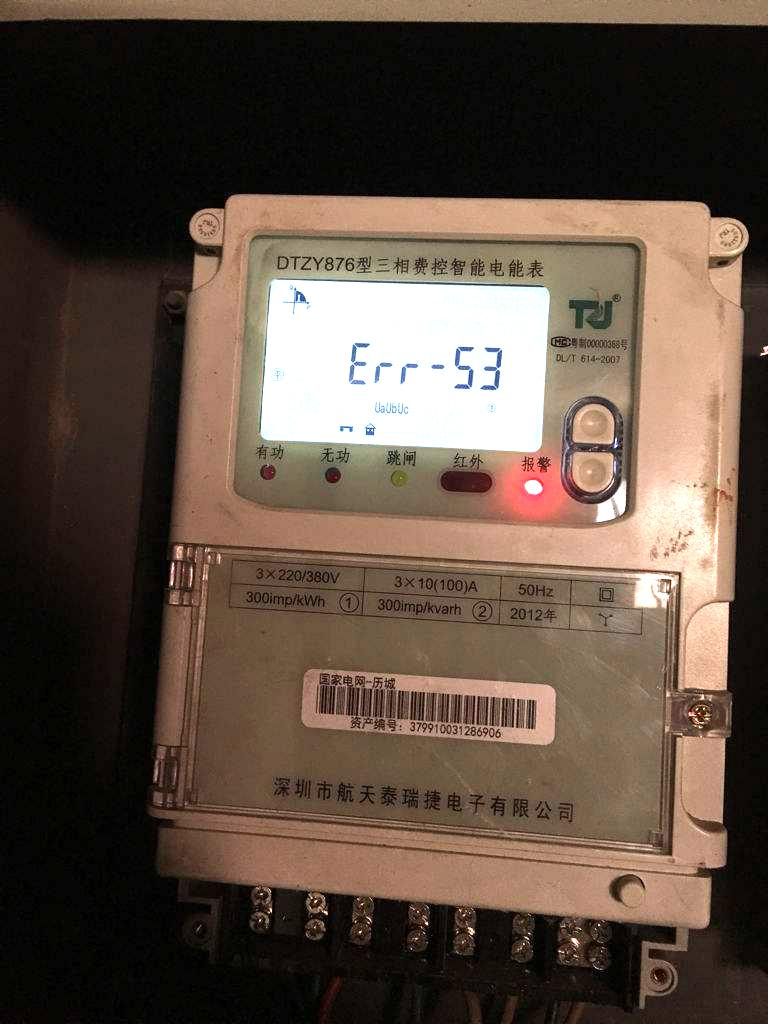digital: (150, 191, 743, 869)
